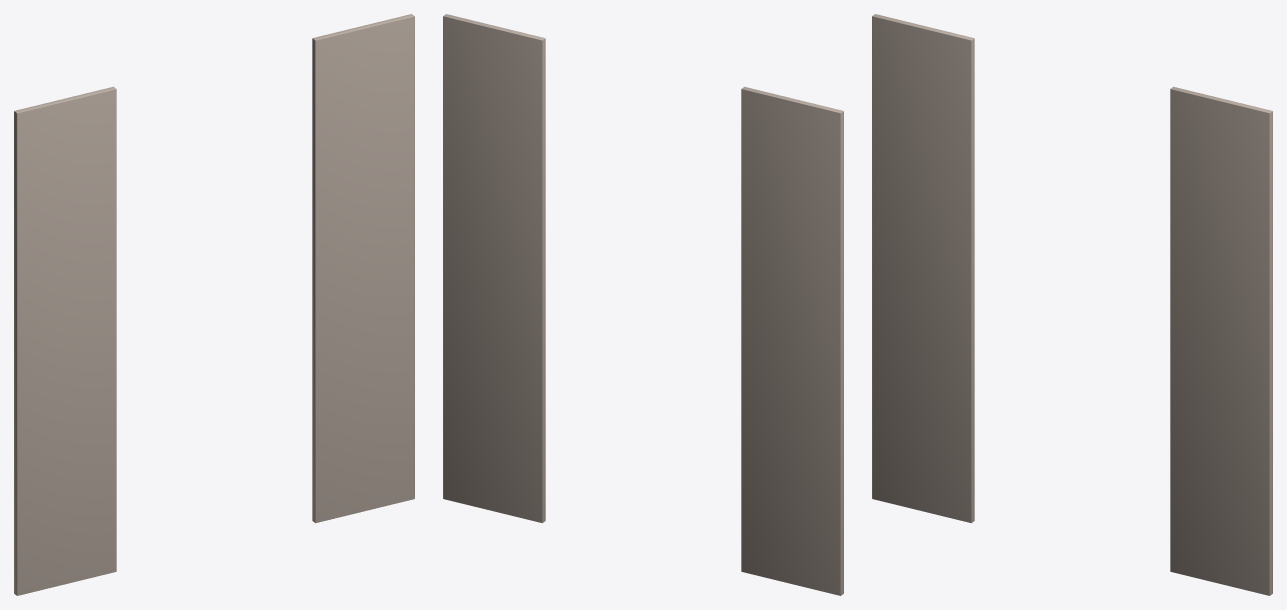
The model's file is landing_door_TM028.glb.
The picture shows the model from 3 angles, left to right: view 1: azimuth 30°, elevation 25°; view 2: azimuth 150°, elevation 25°; view 3: azimuth 330°, elevation 25°; orthographic projection.
Parts seen in each view (by area): view 1: Landing_Door_L, Landing_Door_R; view 2: Landing_Door_L, Landing_Door_R; view 3: Landing_Door_L, Landing_Door_R.
Boxes of the visible parts, box(x1,y1,x2,y2) form: Landing_Door_L: box(14, 86, 116, 595); Landing_Door_R: box(312, 14, 414, 523); Landing_Door_L: box(741, 86, 843, 595); Landing_Door_R: box(443, 14, 545, 523); Landing_Door_L: box(872, 14, 974, 523); Landing_Door_R: box(1170, 86, 1272, 595).
Size of the model in its own units: 1.81 by 2.1 by 0.025.
